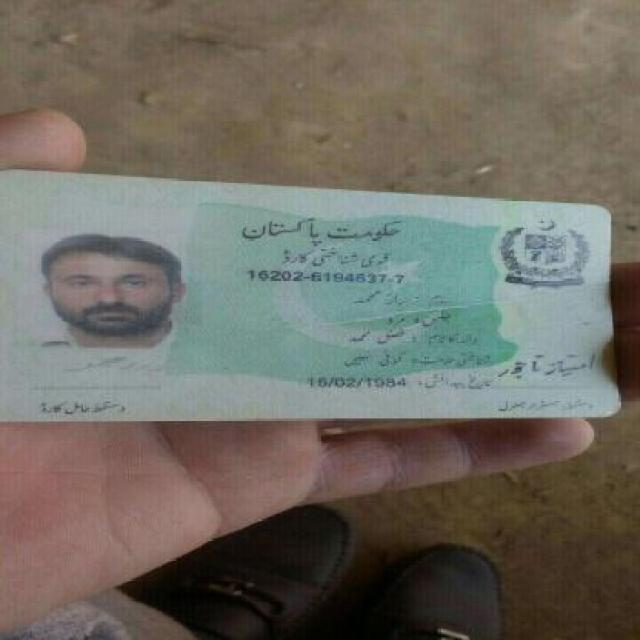Front: (11, 154, 637, 454)
